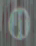Two way: (3, 4, 35, 44)
